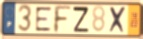3: (17, 4, 33, 34)
8: (91, 5, 108, 35)
E: (35, 6, 53, 33)
F: (52, 5, 73, 34)
X: (108, 5, 128, 34)
Z: (72, 6, 90, 34)
